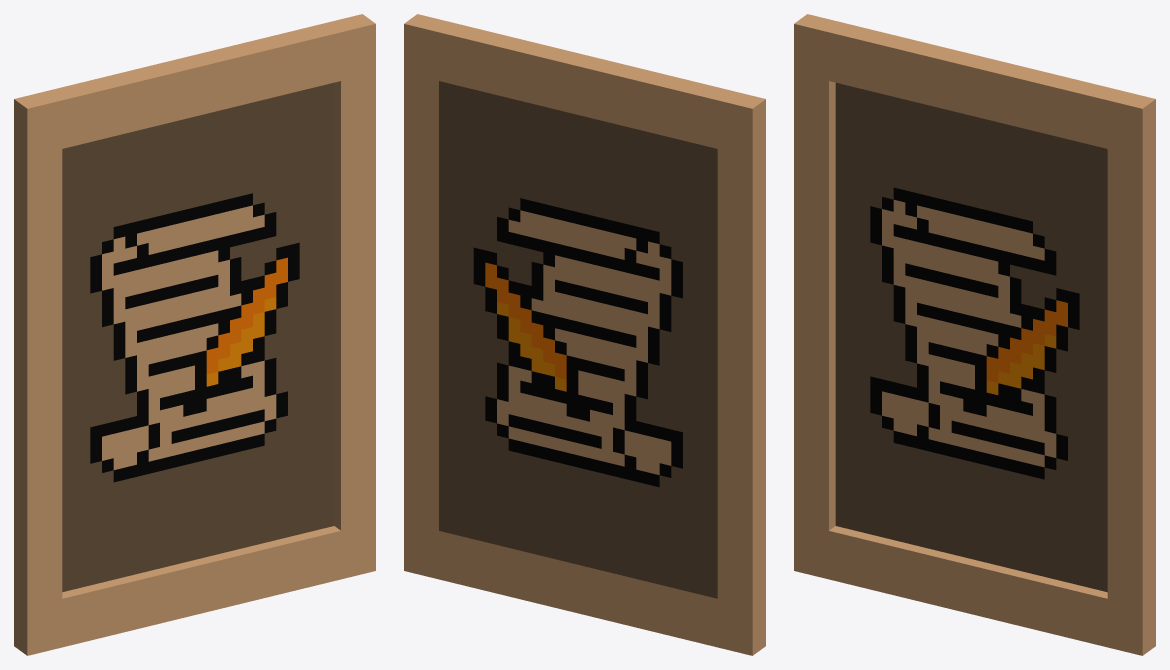
Rendered from website8.vox.obj.
3 views of the same model, side by side, from view 1: azimuth 30°, elevation 25°; view 2: azimuth 150°, elevation 25°; view 3: azimuth 330°, elevation 25° (orthographic).
Bounding box in the file's own units: 3 × 4.5 × 0.2.
Materials: 1 (1 with a texture image).
